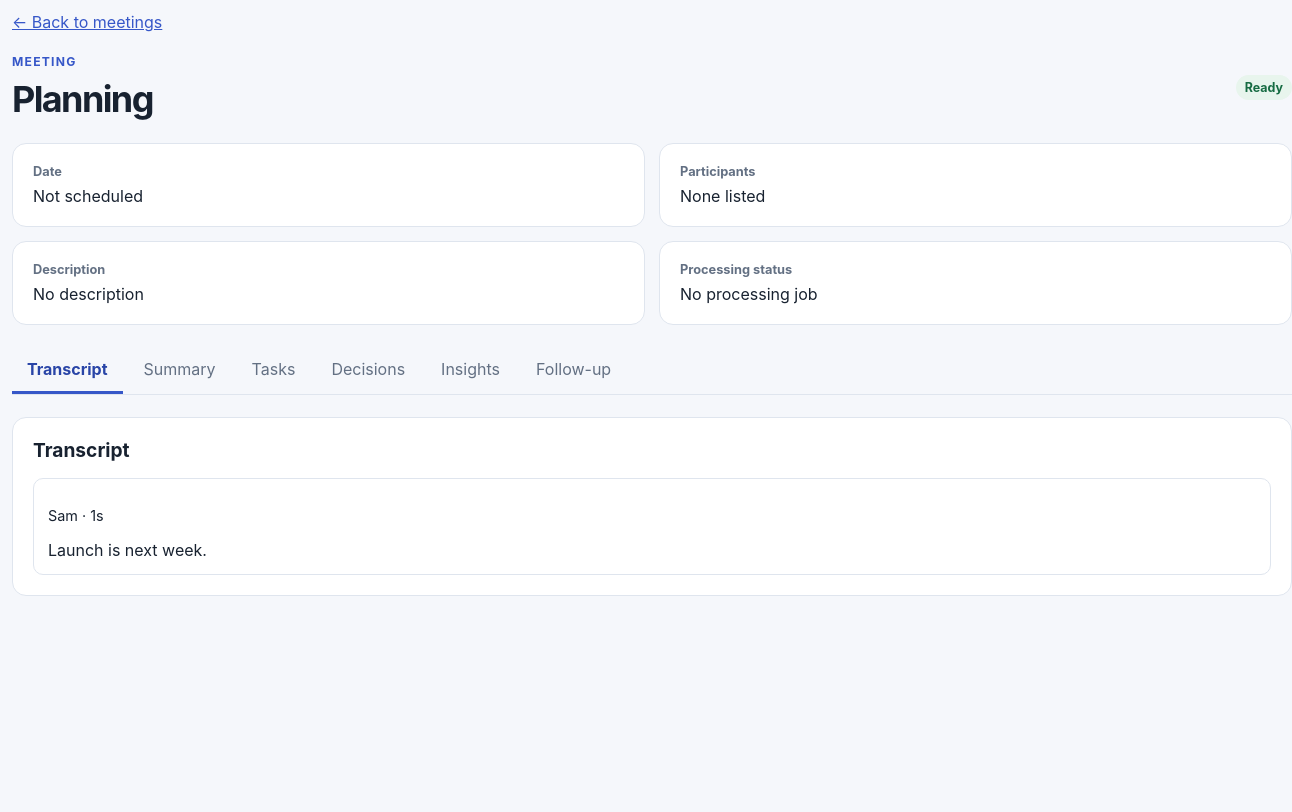
MeetingDetailsPage › exposes the section loading state
Click the tab "Tasks": coordinates (274, 370) [237,347,310,394]
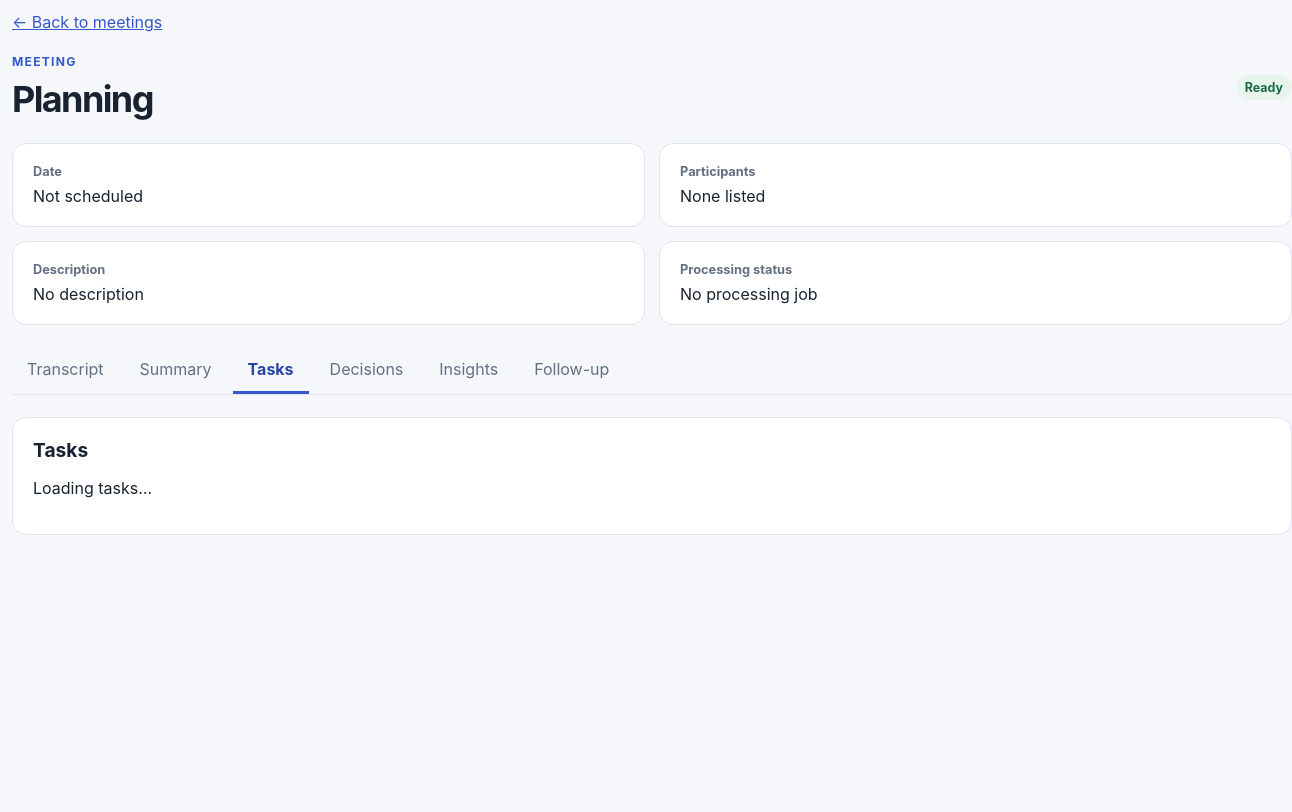
Result: the message shows "Loading tasks" at [33,478,152,498]
